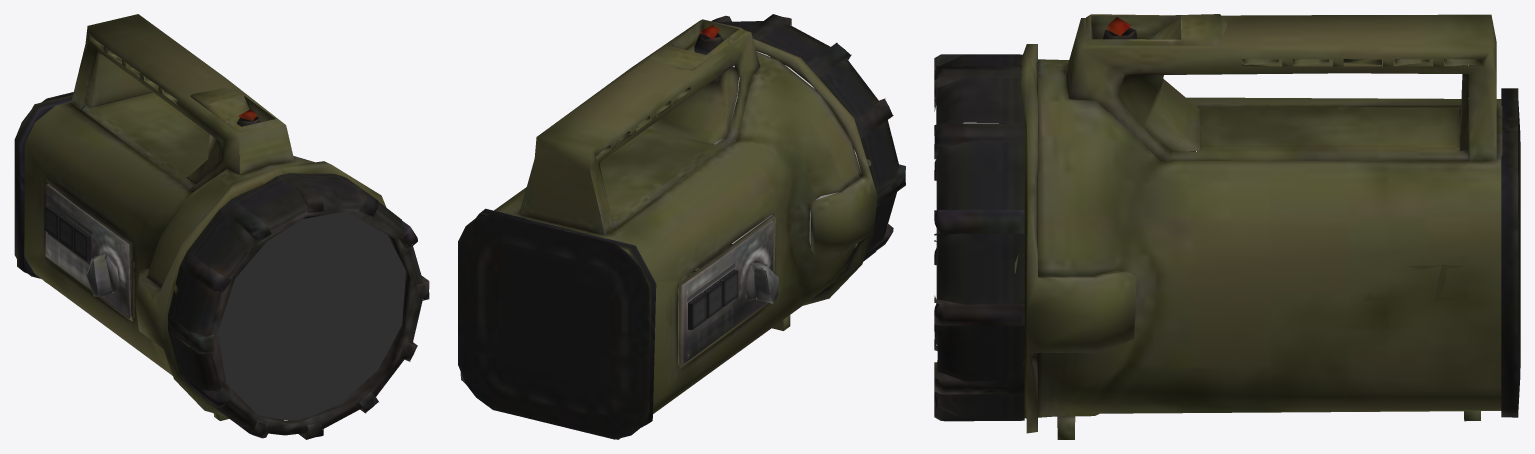
Rendered from portable_searchlight.glb.
The picture shows the model from 3 angles, left to right: view 1: azimuth 30°, elevation 25°; view 2: azimuth 150°, elevation 25°; view 3: azimuth 270°, elevation 25°; orthographic projection. The views are drawn at different scales.
Visible parts, largest first — view 1: portable_searchlight; view 2: portable_searchlight; view 3: portable_searchlight.
Part boxes in pixels (left/top/right/bottom): portable_searchlight: left=14, top=14, right=429, bottom=439; portable_searchlight: left=458, top=14, right=905, bottom=439; portable_searchlight: left=934, top=14, right=1520, bottom=439.
Size of the model in its own units: 0.1654 by 0.1845 by 0.2532.
2 materials, 2 textured.
